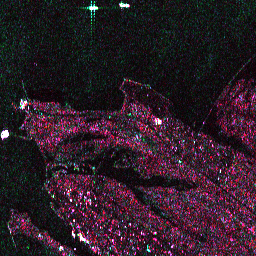ship: (117, 1, 130, 9), (86, 4, 99, 11)
